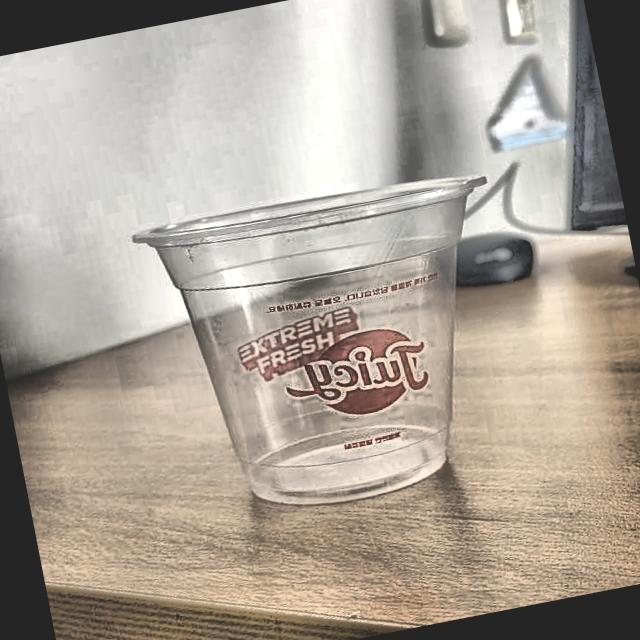plastic cup: (128, 162, 546, 532)
